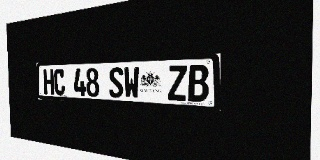4: (73, 68, 86, 96)
8: (86, 68, 99, 97)
B: (188, 64, 209, 102)
C: (54, 69, 65, 95)
H: (43, 69, 54, 95)
S: (109, 67, 123, 98)
W: (124, 67, 140, 99)
Z: (168, 65, 187, 101)
